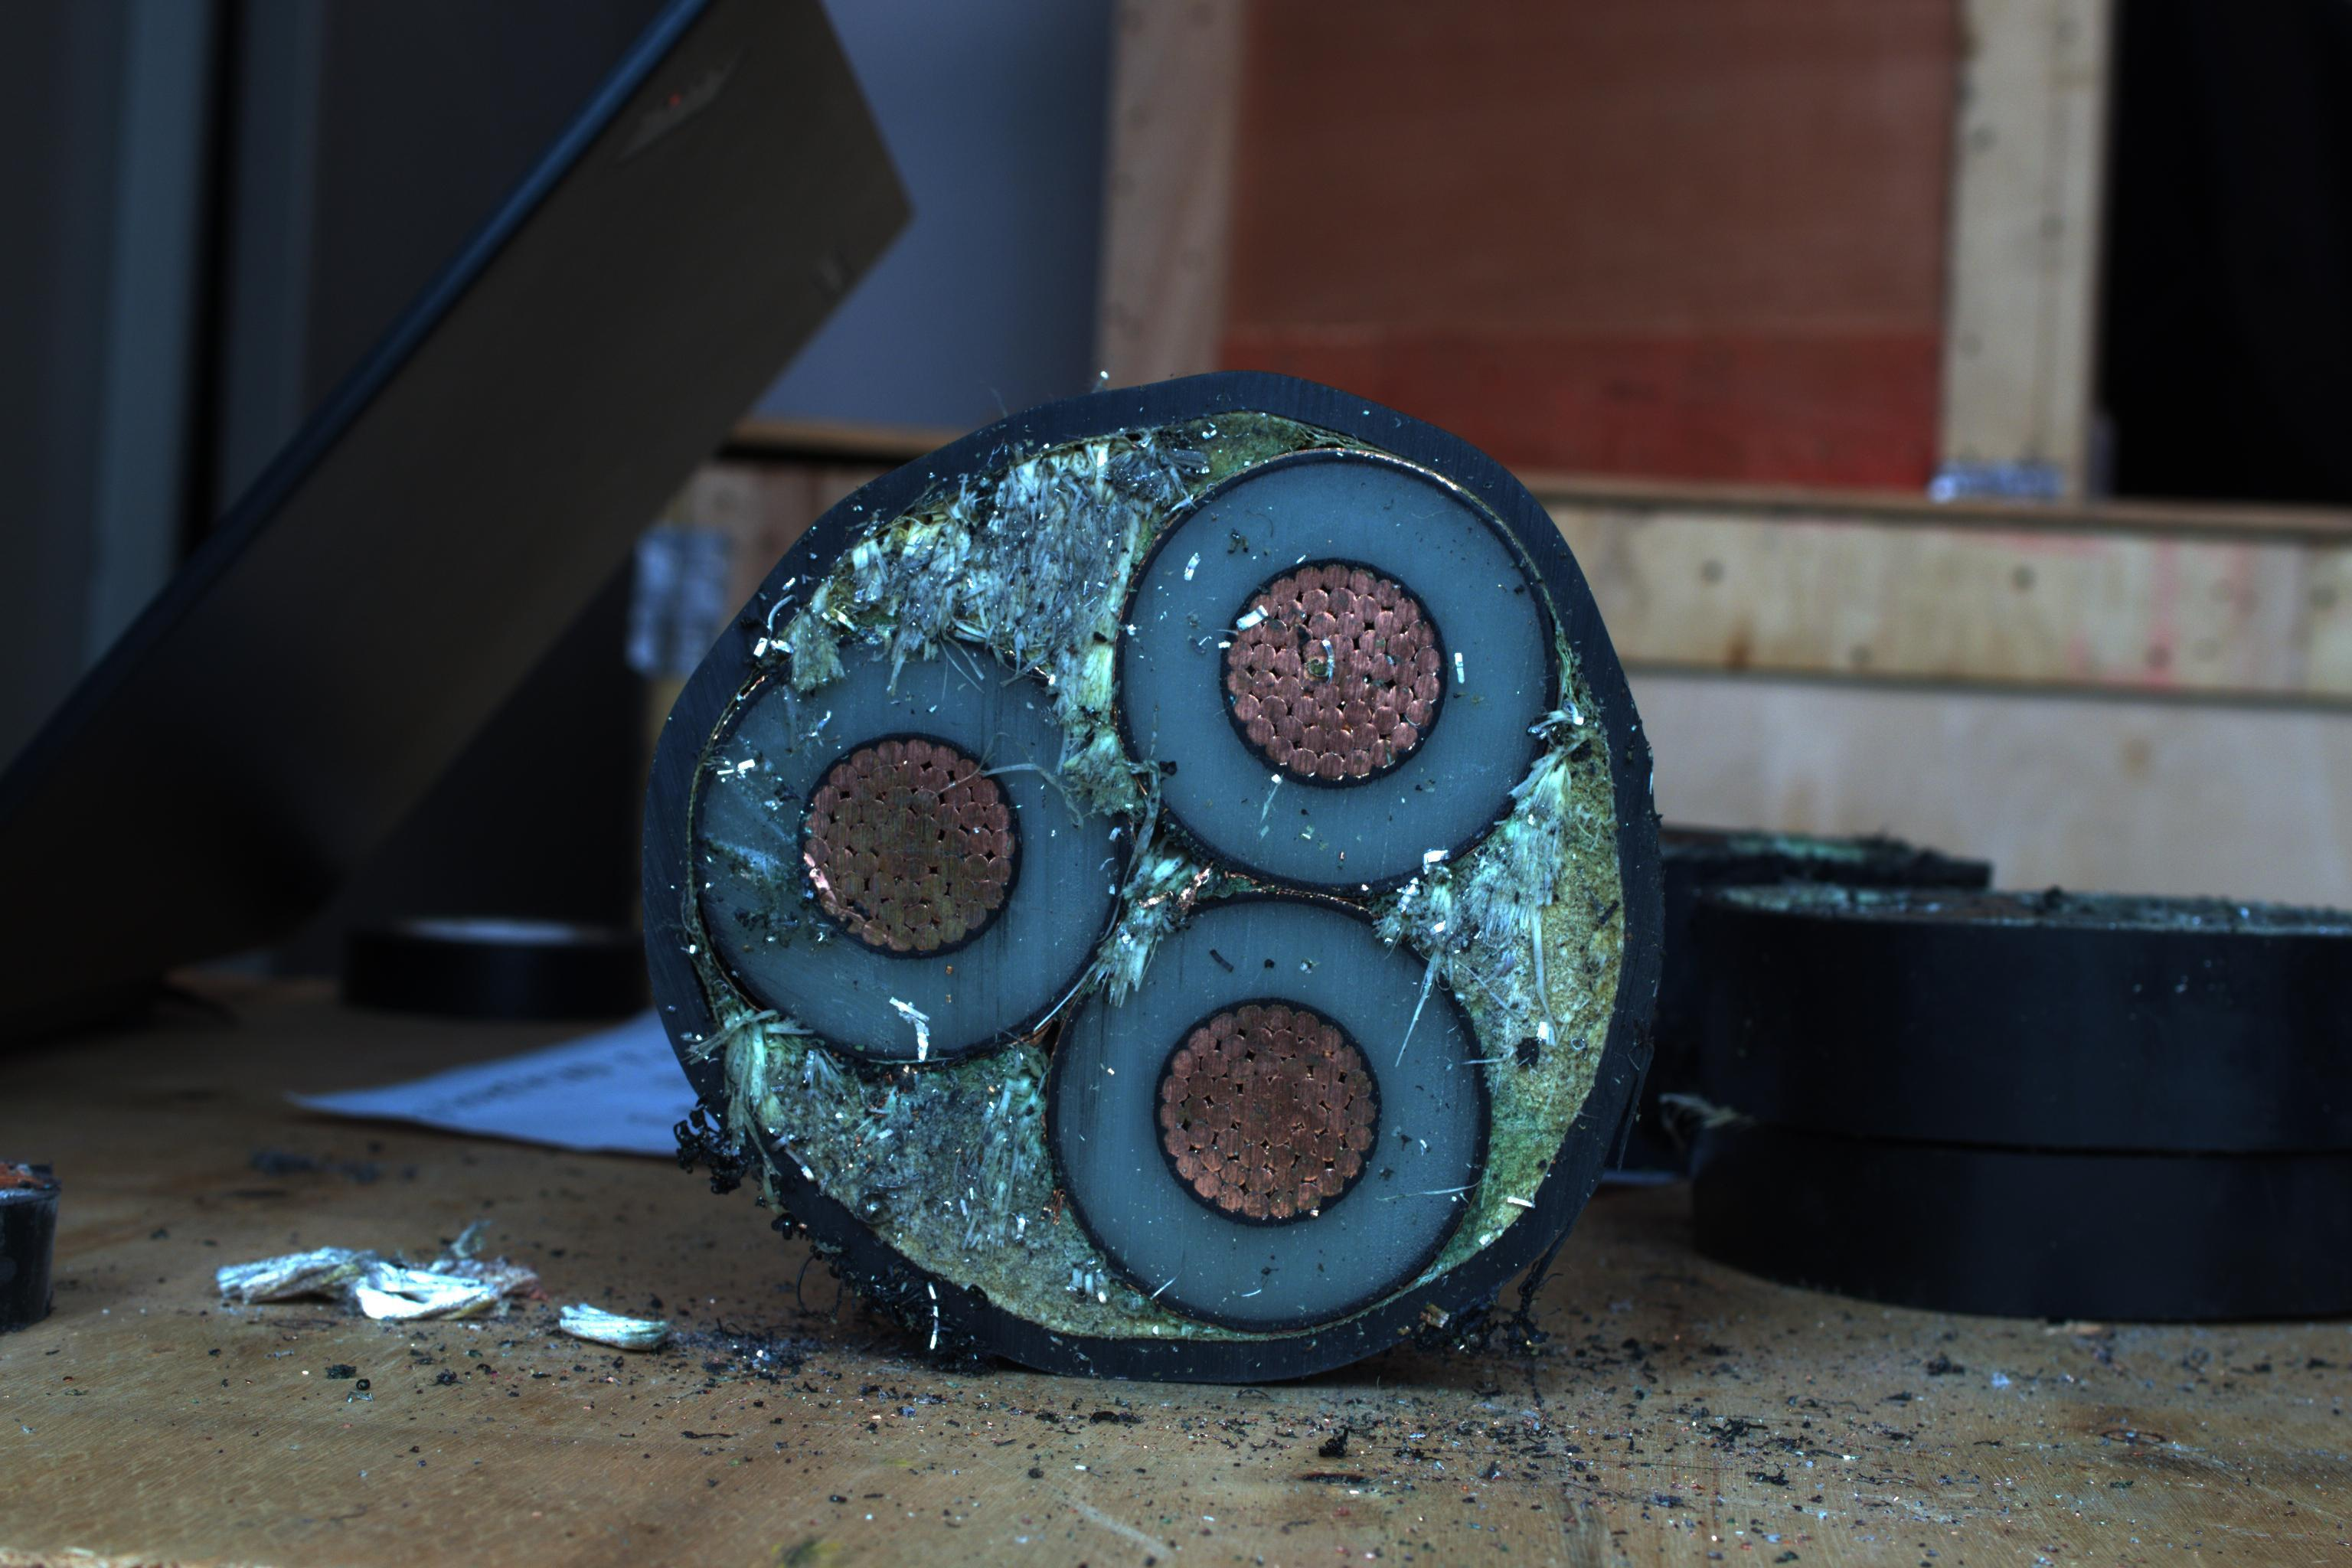ZA_YJV_26_35kV_3x400: (635, 390, 1659, 1389)
